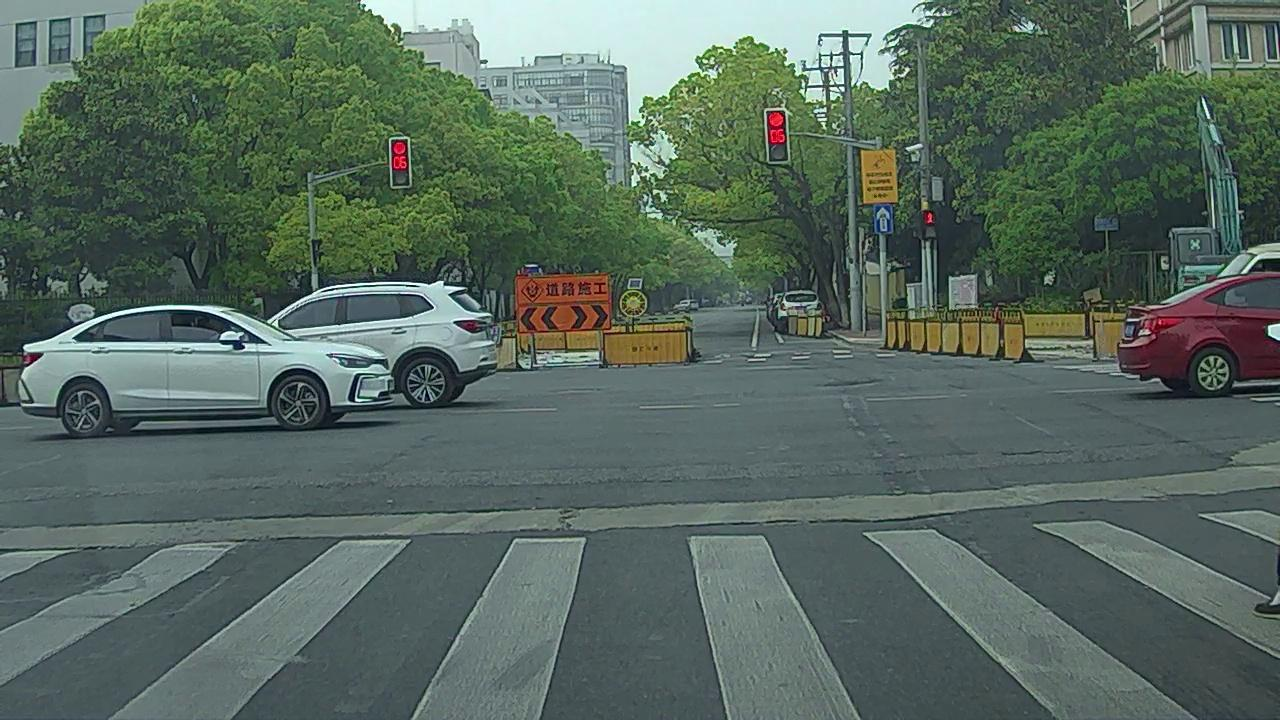traffic_light: (767, 110, 788, 161), (391, 139, 410, 186)
